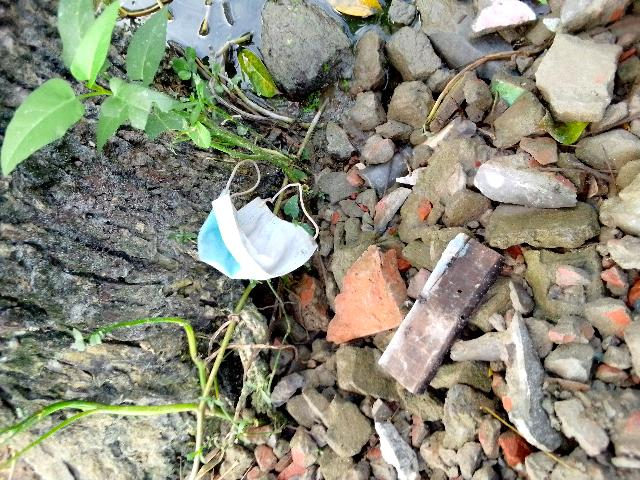mask: (191, 158, 310, 289)
